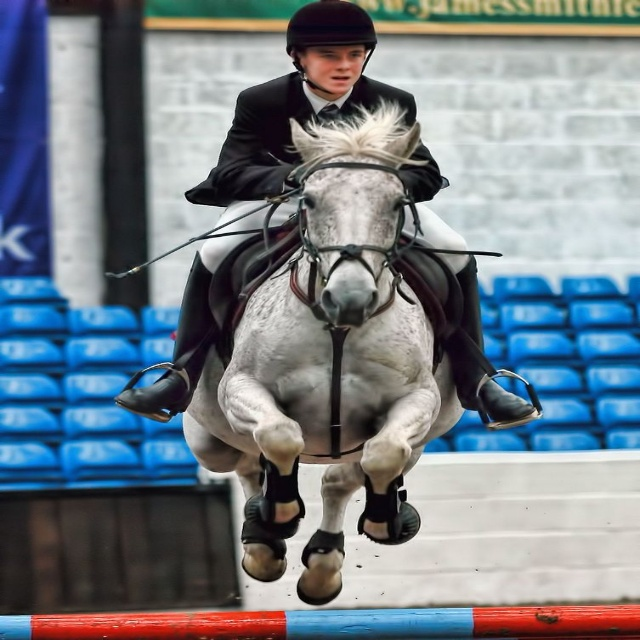Horse: (183, 95, 466, 605)
